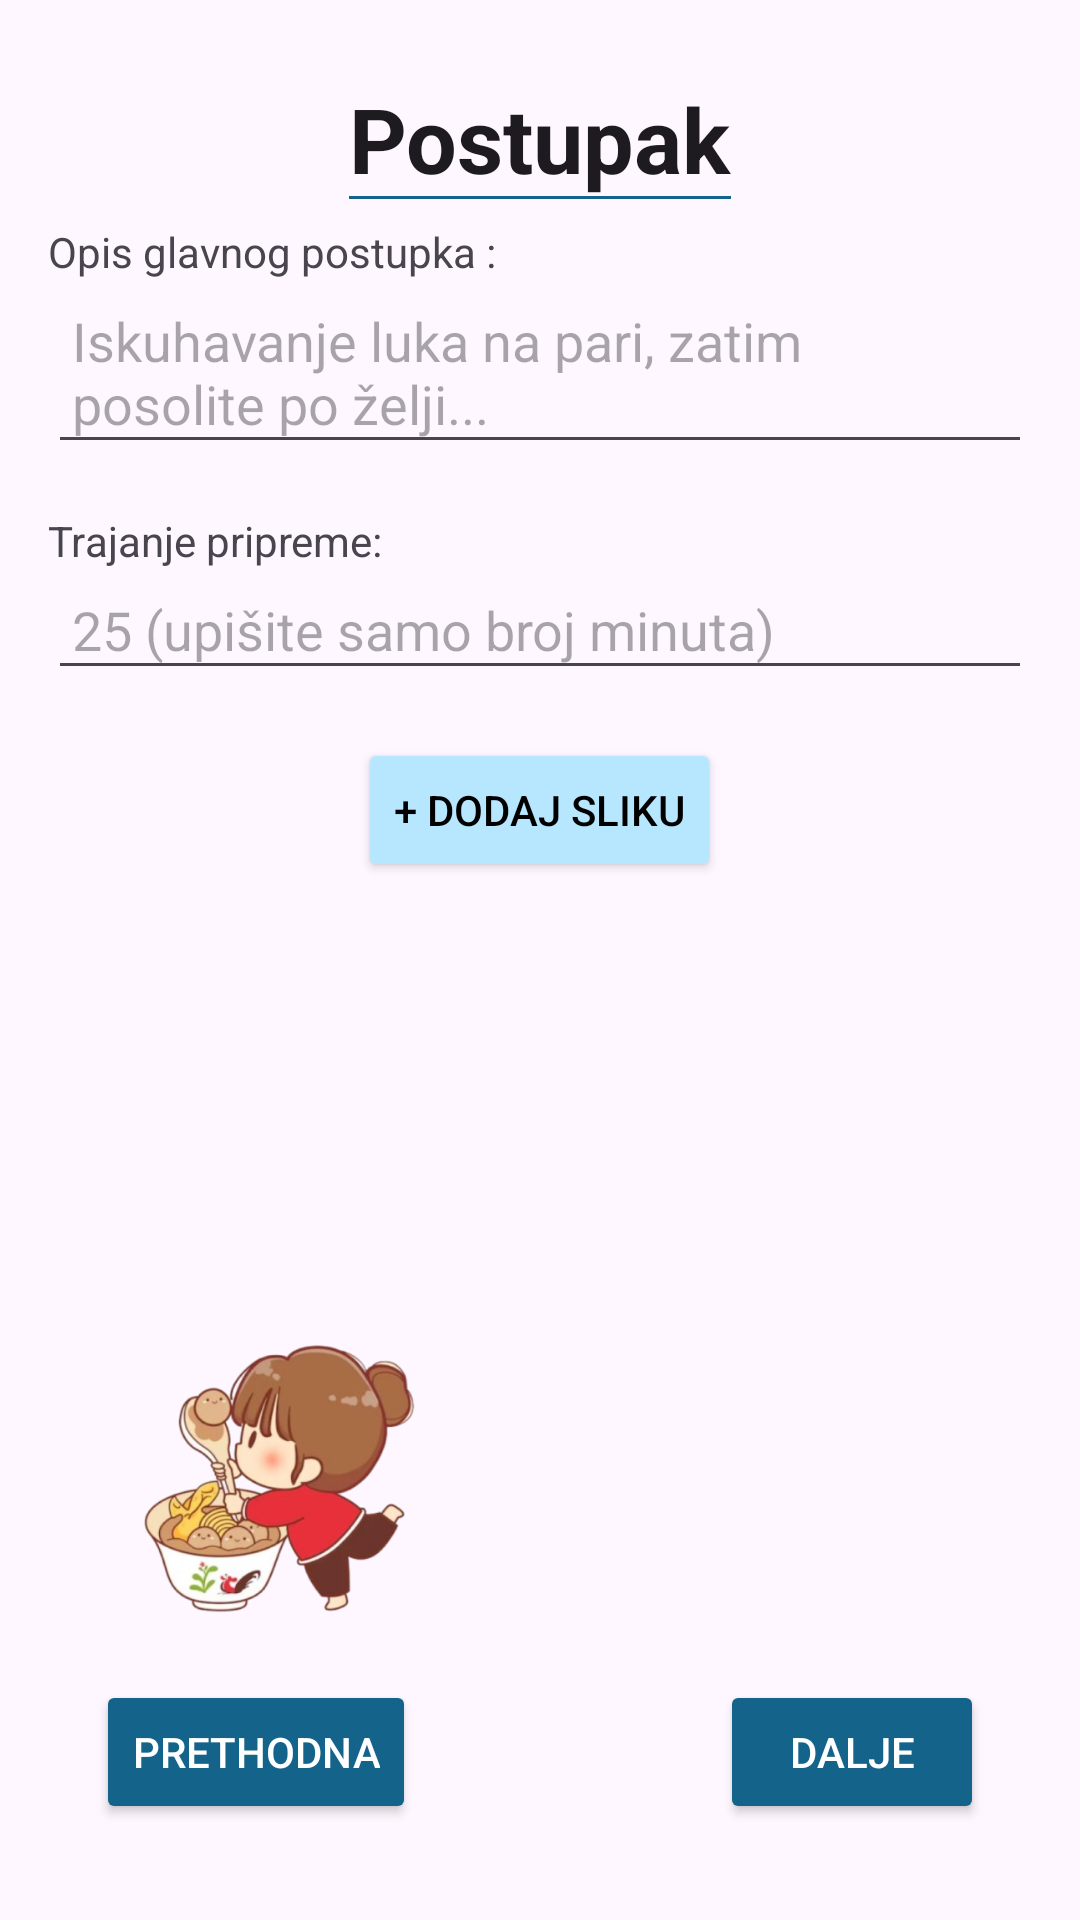

Icons on this 1080w x 1920h Android screen, each with its box as rect(x1, y1, x2, y2):
adding noodles: rect(144, 1345, 414, 1612)
